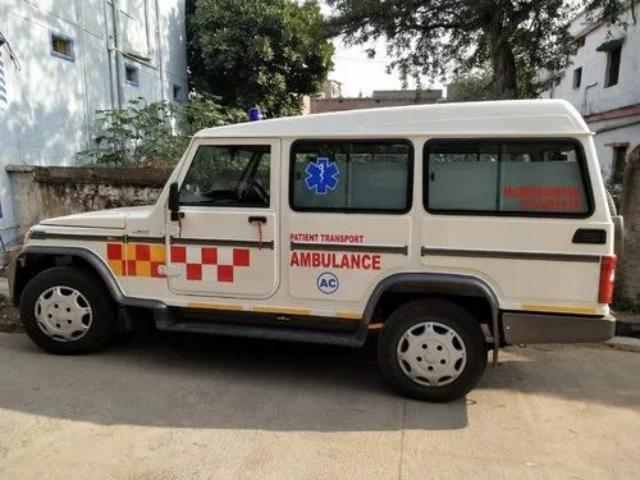ambulance: (12, 99, 629, 402)
